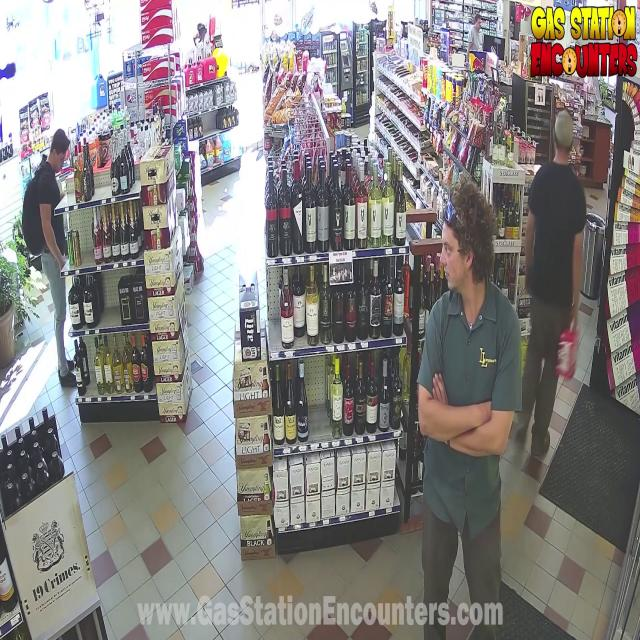Product: (555, 320, 592, 391)
normal: (406, 176, 522, 640), (3, 96, 85, 412)
shoplifting: (510, 105, 595, 461)
